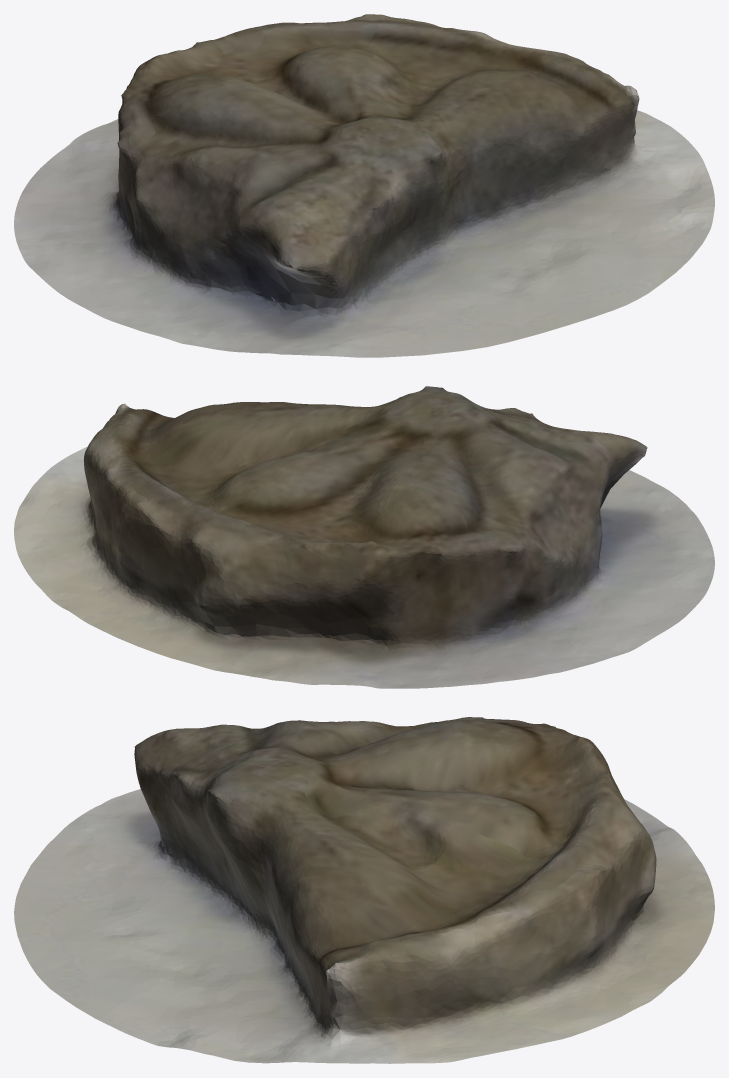
The model's file is Fukakusahaijikawara.glb.
3 renders of one model, top to bottom at view 1: azimuth 30°, elevation 25°; view 2: azimuth 150°, elevation 25°; view 3: azimuth 270°, elevation 25°, orthographic. The views are drawn at different scales.
Parts seen in each view (by area): view 1: mesh; view 2: mesh; view 3: mesh.
Part boxes in pixels (x1,y1,x2,y2): mesh: [14, 14, 714, 357]; mesh: [14, 386, 714, 688]; mesh: [14, 717, 714, 1063].
Bounding box in the file's own units: 0.1769 × 0.0346 × 0.1613.
Materials: 1 (1 with a texture image).
